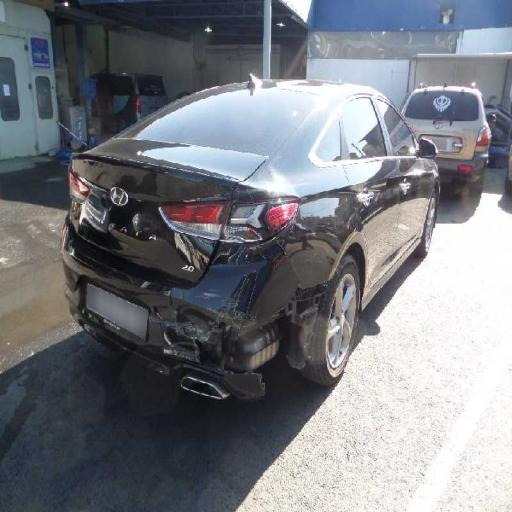broken: (100, 154, 303, 408)
